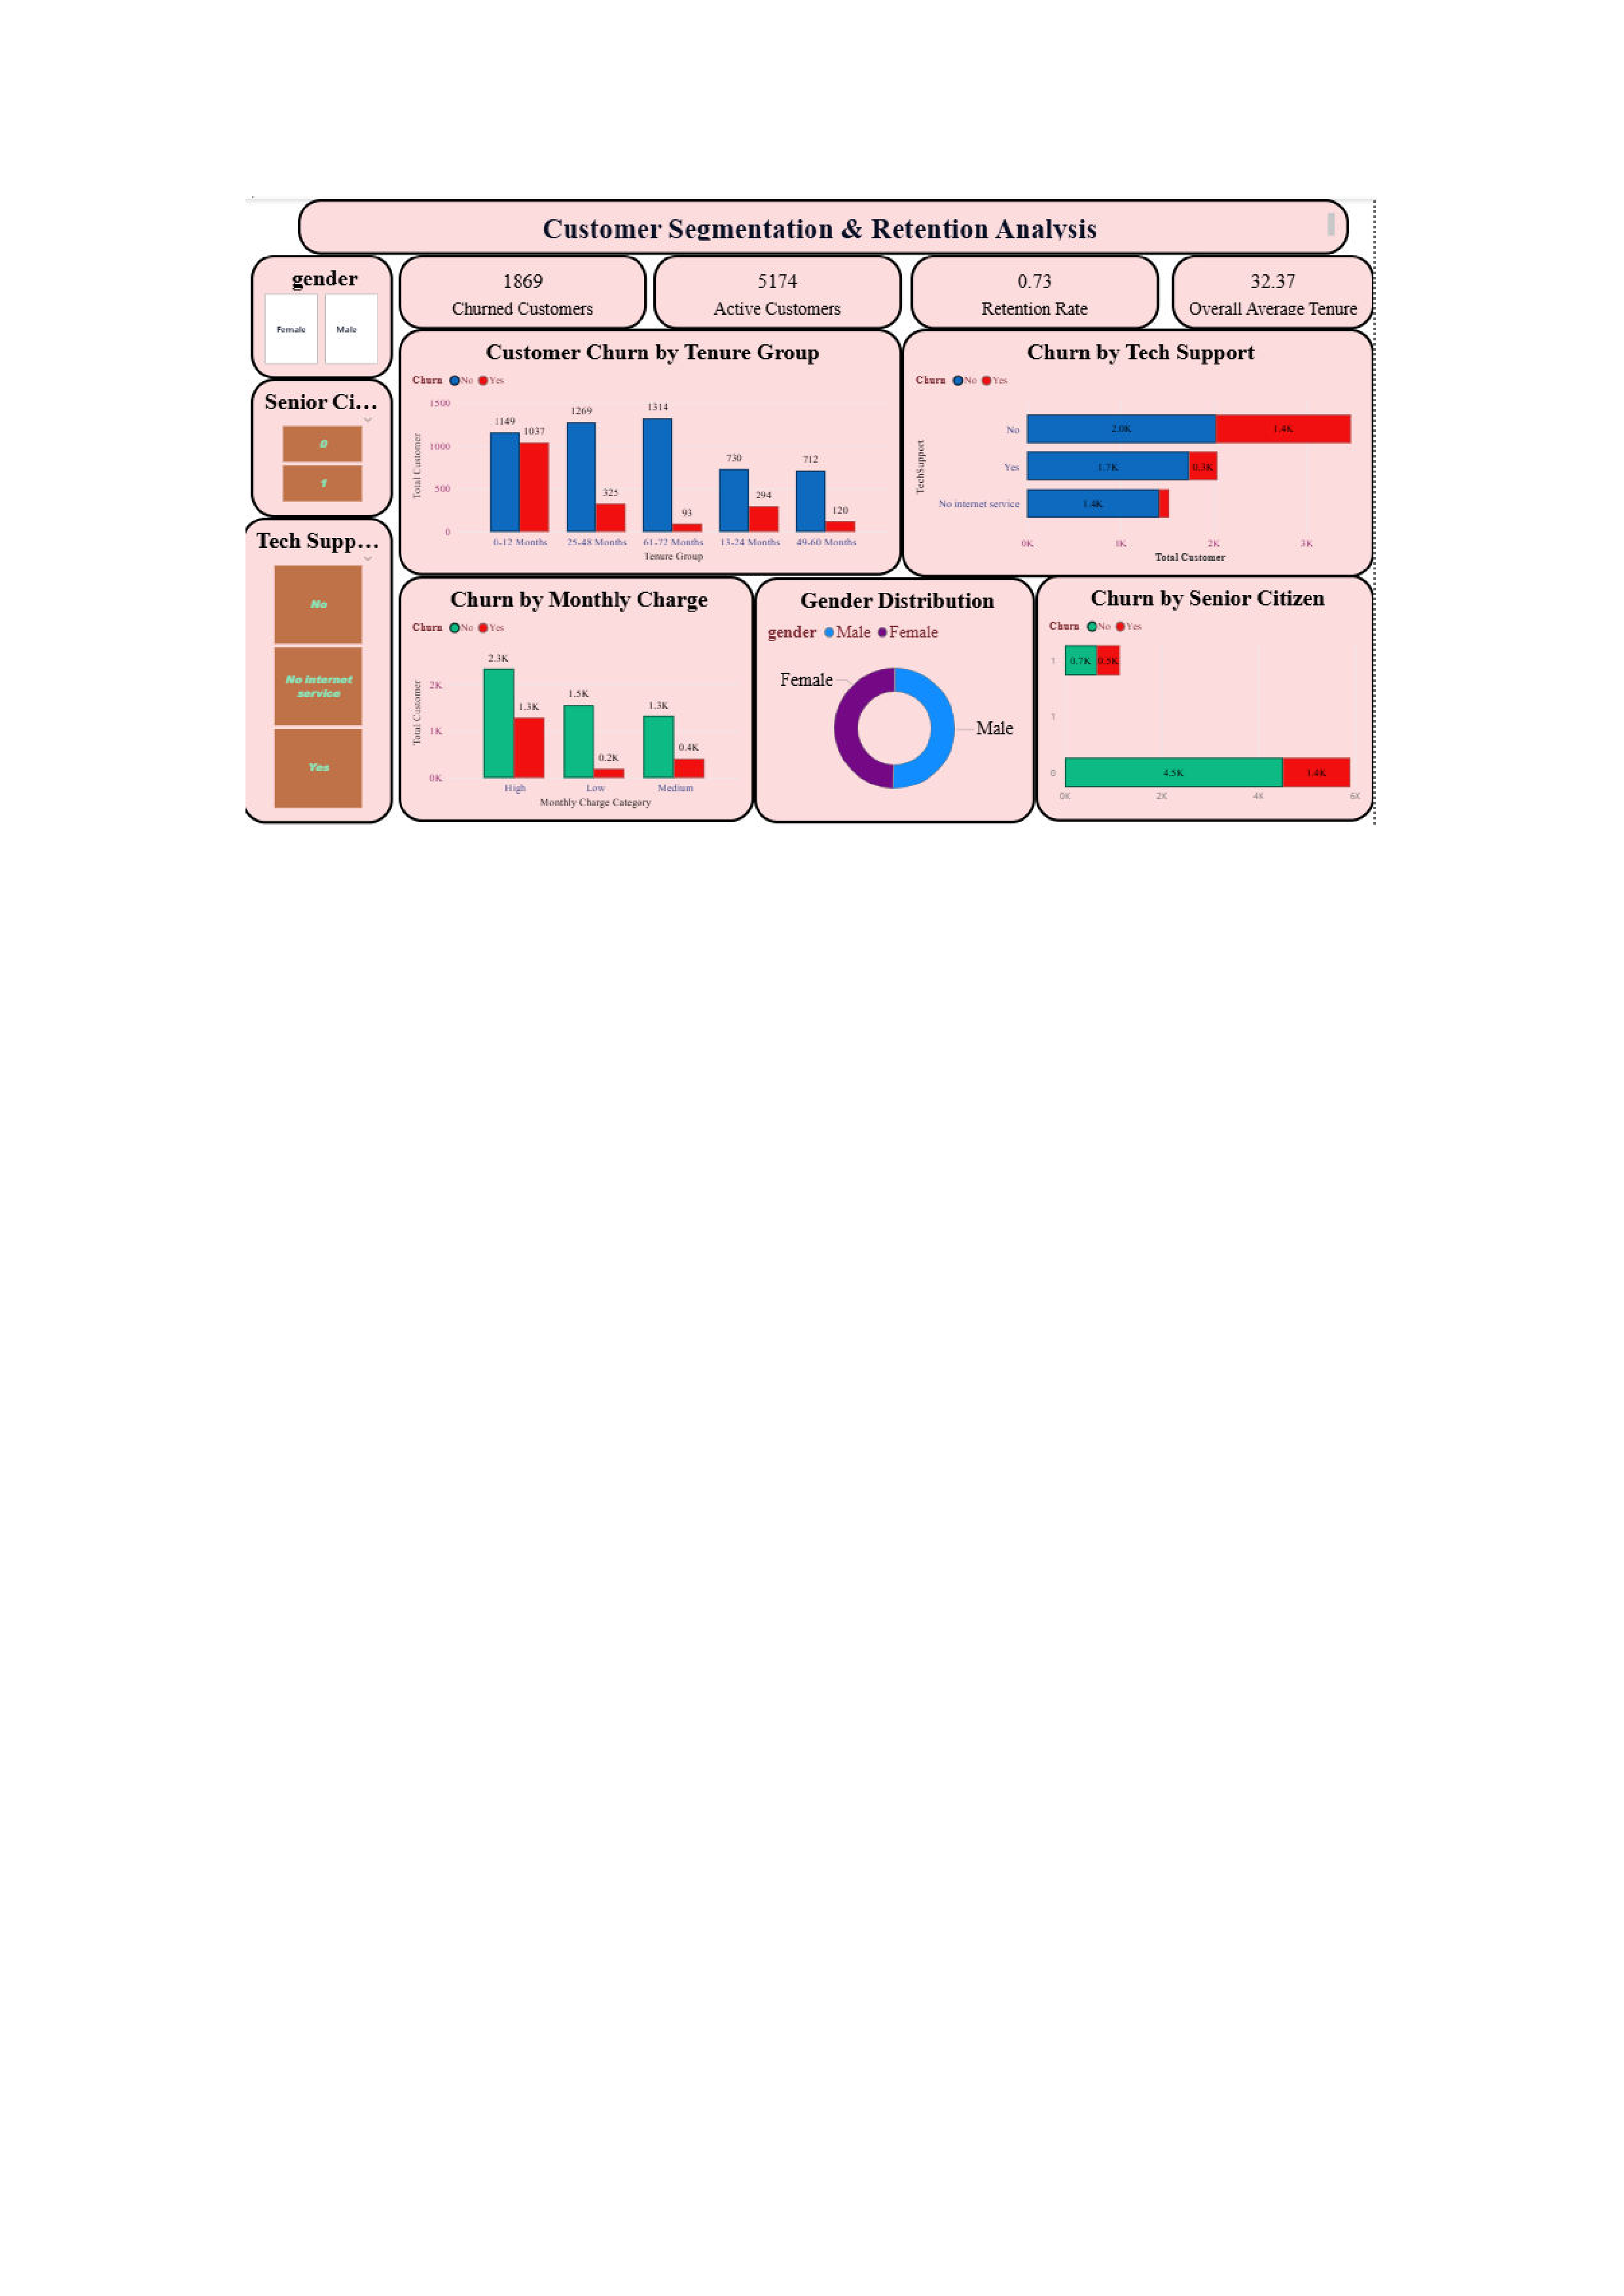

What the dashboard file says about the page in this screenshot:
{"tool":"powerbi","page":{"name":"Dashboard","canvas":[1280,720],"ordinal":3},"visuals":[{"type":"clusteredColumnChart","title":"Customer Churn by Tenure Group","fields":{"Category":["Customer Retention & Churn Anal.Tenure Group"],"Y":["Calculated Measures.Total Customer"],"Series":["Churn Status.Churn"]},"box":[177.1,146.9,568.8,279.4],"z":0},{"type":"clusteredColumnChart","title":"Churn by Monthly Charge ","fields":{"Category":["Customer Retention & Churn Anal.Monthly Charge Category"],"Y":["Calculated Measures.Total Customer"],"Series":["Churn Status.Churn"]},"box":[177.1,426.2,401.8,277.9],"z":1000},{"type":"donutChart","title":"Gender Distribution","fields":{"Category":["Customer Retention & Churn Anal.gender"],"Y":["Calculated Measures.Total Customer"]},"box":[578.9,427.7,318.2,277.9],"z":2000},{"type":"barChart","title":"Churn by Senior Citizen ","fields":{"Category":["Customer Retention & Churn Anal.SeniorCitizen"],"Y":["Calculated Measures.Total Customer"],"Series":["Churn Status.Churn"]},"box":[897.1,424.8,383,279.4],"z":3000},{"type":"barChart","title":"Churn by Tech Support","fields":{"Y":["Calculated Measures.Total Customer"],"Category":["Customer Retention & Churn Anal.TechSupport"],"Series":["Churn Status.Churn"]},"box":[745.9,146.9,534.2,280.8],"z":4000},{"type":"card","fields":{"Values":["Calculated Measures.Churned Customers"]},"box":[177.1,63.4,280.8,83.5],"z":4001},{"type":"card","fields":{"Values":["Calculated Measures.Active Customers"]},"box":[465.1,63.4,280.8,83.5],"z":4002},{"type":"card","fields":{"Values":["Calculated Measures.Retention Rate"]},"box":[756,63.4,280.8,83.5],"z":4003},{"type":"card","fields":{"Values":["Calculated Measures.Overall Average Tenure"]},"box":[1051.2,63.4,229,83.5],"z":4004},{"type":"slicer","title":"Senior Citizen","fields":{"Values":["Customer Retention & Churn Anal.SeniorCitizen"]},"box":[10.1,203,161.3,157],"z":4005},{"type":"advancedSlicerVisual","fields":{"Values":["Customer Retention & Churn Anal.gender"]},"box":[10.1,63.4,161.3,139.7],"z":4006},{"type":"slicer","title":"Tech Support","fields":{"Values":["Customer Retention & Churn Anal.TechSupport"]},"box":[0,360,171.4,345.6],"z":4007},{"type":"textbox","box":[63.4,0,1188,63.4],"z":4008}]}

Visuals, with their boxes on the page's 1280x720 design canvas (x1, y1, x2, y2). These are canvas units, not pixel positions in the 1624x2296 screenshot, which may show the page scaled, cropped or inside an application window:
"Customer Churn by Tenure Group" clusteredColumnChart: <box>177,147,746,426</box>
"Churn by Monthly Charge " clusteredColumnChart: <box>177,426,579,704</box>
"Gender Distribution" donutChart: <box>579,428,897,706</box>
"Churn by Senior Citizen " barChart: <box>897,425,1280,704</box>
"Churn by Tech Support" barChart: <box>746,147,1280,428</box>
card - Calculated Measures.Churned Customers: <box>177,63,458,147</box>
card - Calculated Measures.Active Customers: <box>465,63,746,147</box>
card - Calculated Measures.Retention Rate: <box>756,63,1037,147</box>
card - Calculated Measures.Overall Average Tenure: <box>1051,63,1280,147</box>
"Senior Citizen" slicer: <box>10,203,171,360</box>
advancedSlicerVisual - Customer Retention & Churn Anal.gender: <box>10,63,171,203</box>
"Tech Support" slicer: <box>0,360,171,706</box>
textbox: <box>63,0,1251,63</box>
